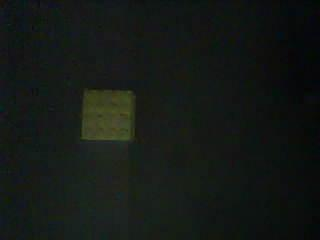lego: (80, 89, 136, 142)
